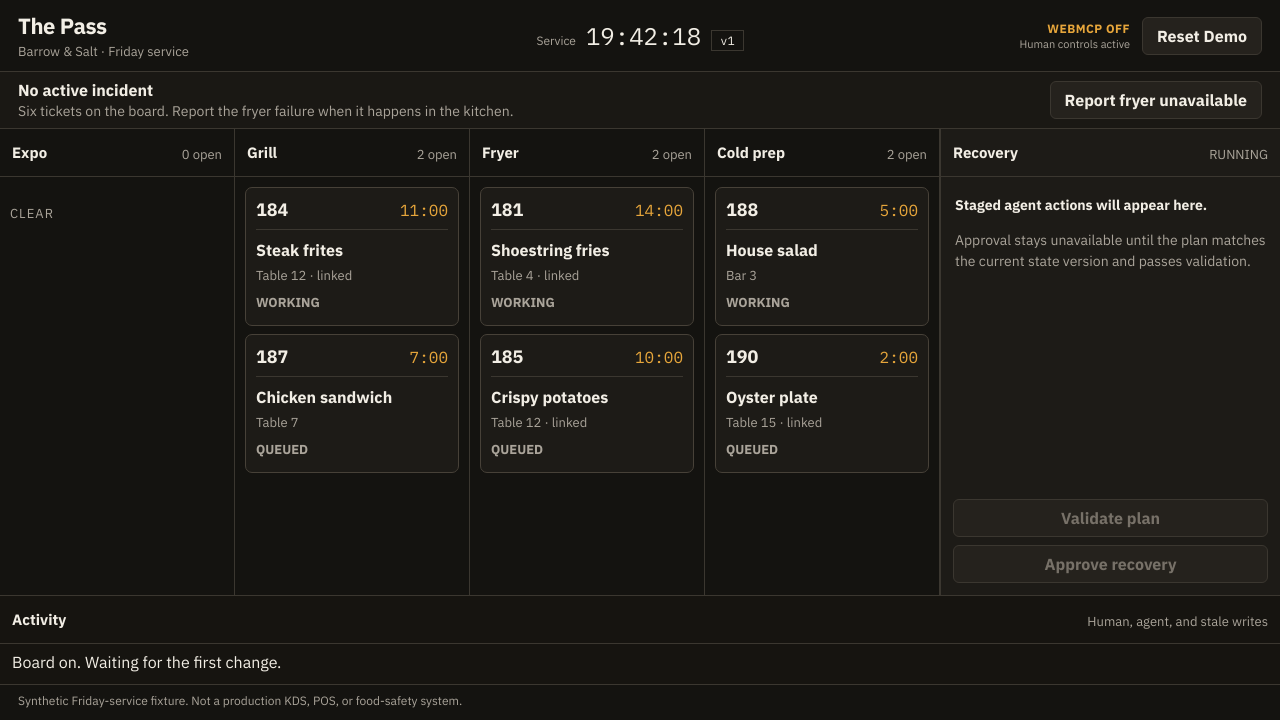
kitchen board › enables approval only after a valid current-version plan
Click the button "Report fryer unavailable": (1156, 100) [1050, 81, 1262, 119]
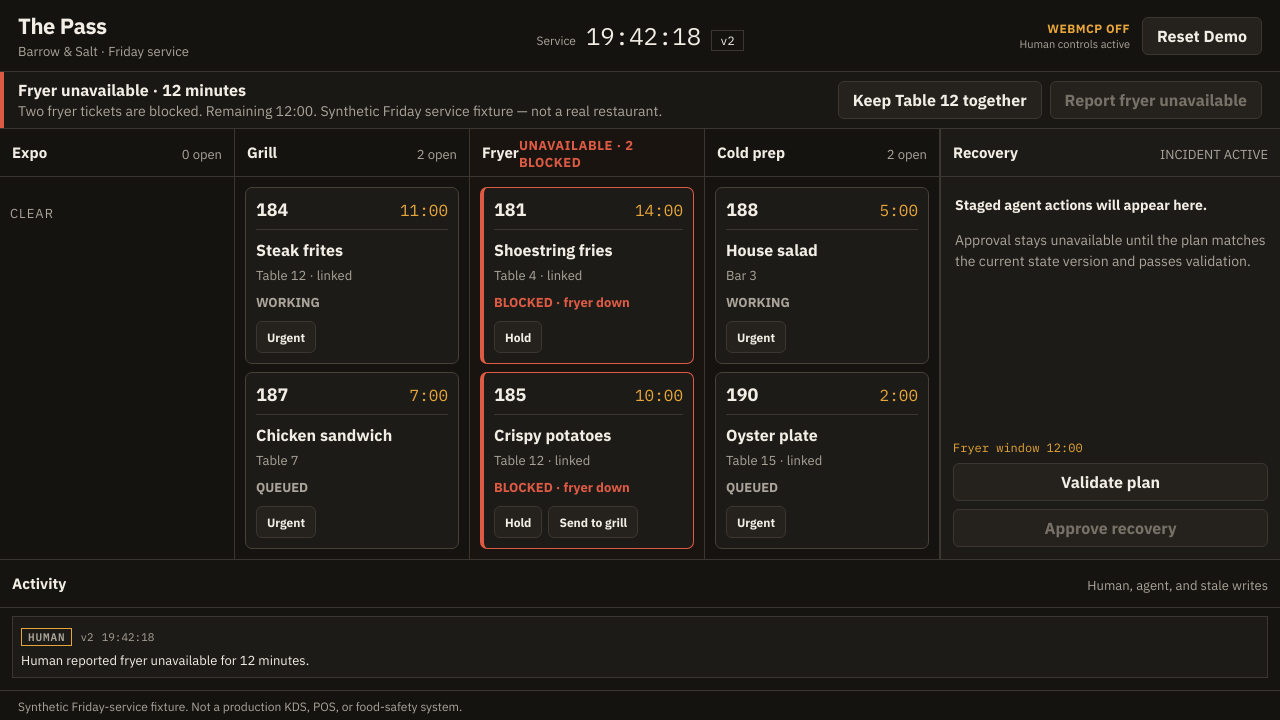
Expected: the text "Shoestring fries" is shown, [494, 240, 613, 260]
Expected: the text "Crispy potatoes" is shown, [494, 425, 611, 445]
Click the button "Hold" below "Table 4": (518, 337) [494, 321, 542, 353]
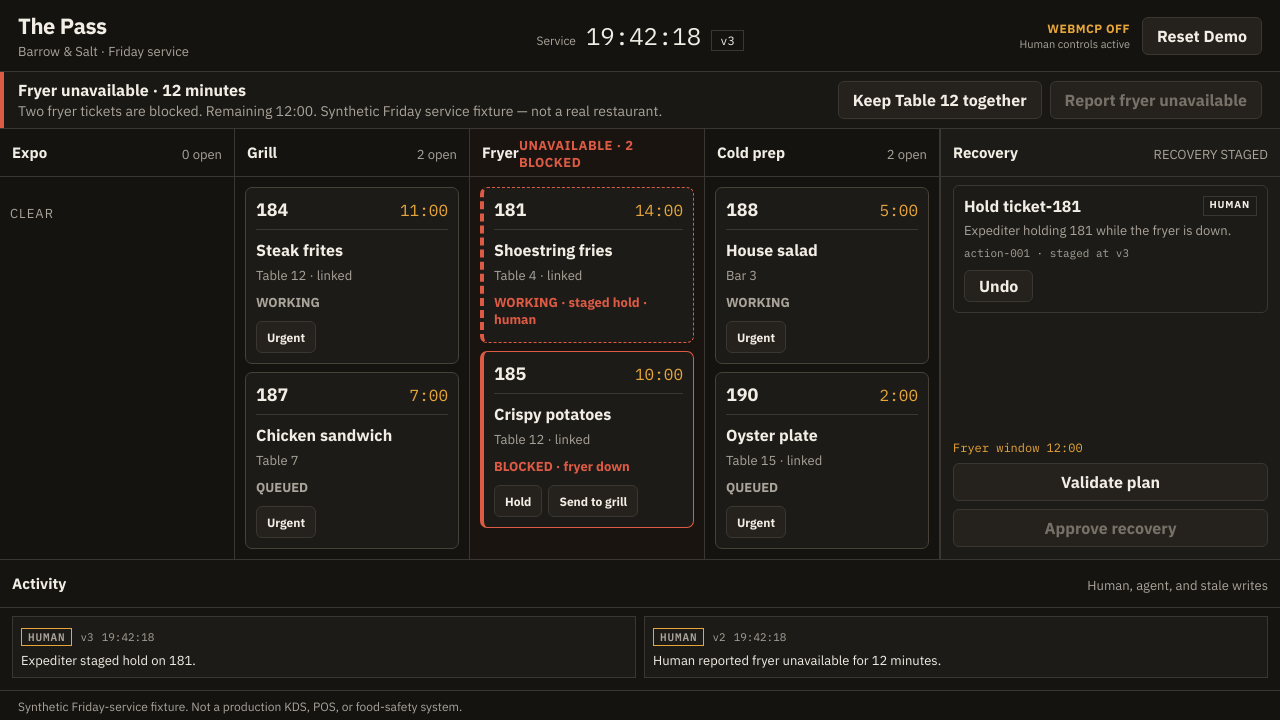
Click the button "Send to grill": (593, 501) [548, 485, 638, 517]
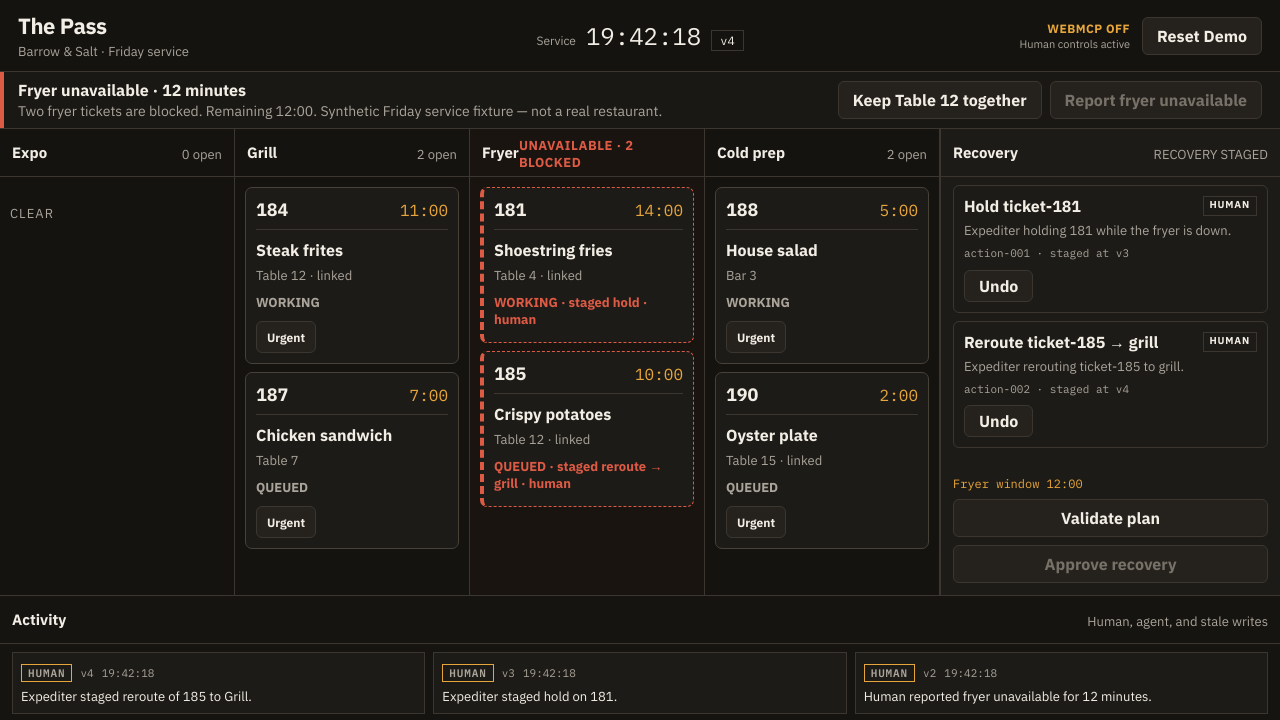
Expected: the button "Approve recovery" is disabled, [953, 545, 1268, 583]
Click the button "Validate plan": (1110, 518) [953, 499, 1268, 537]
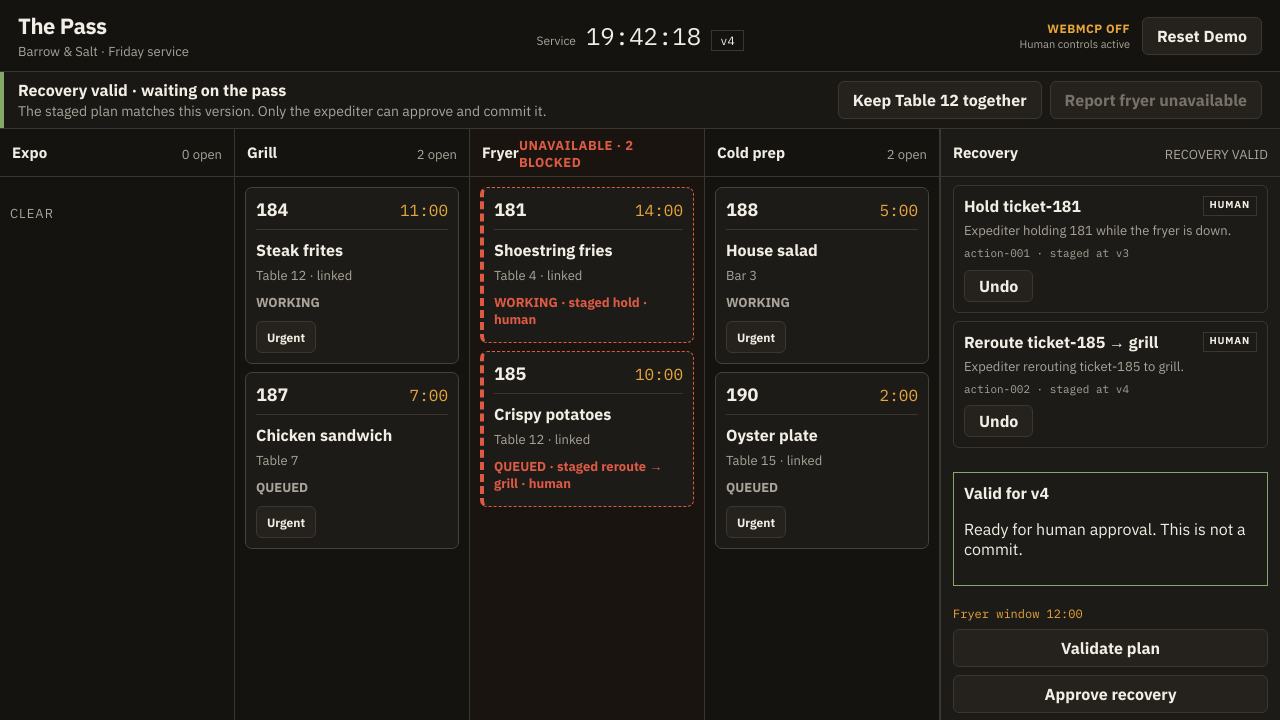
Click the button "Approve recovery": (1110, 694) [953, 675, 1268, 713]
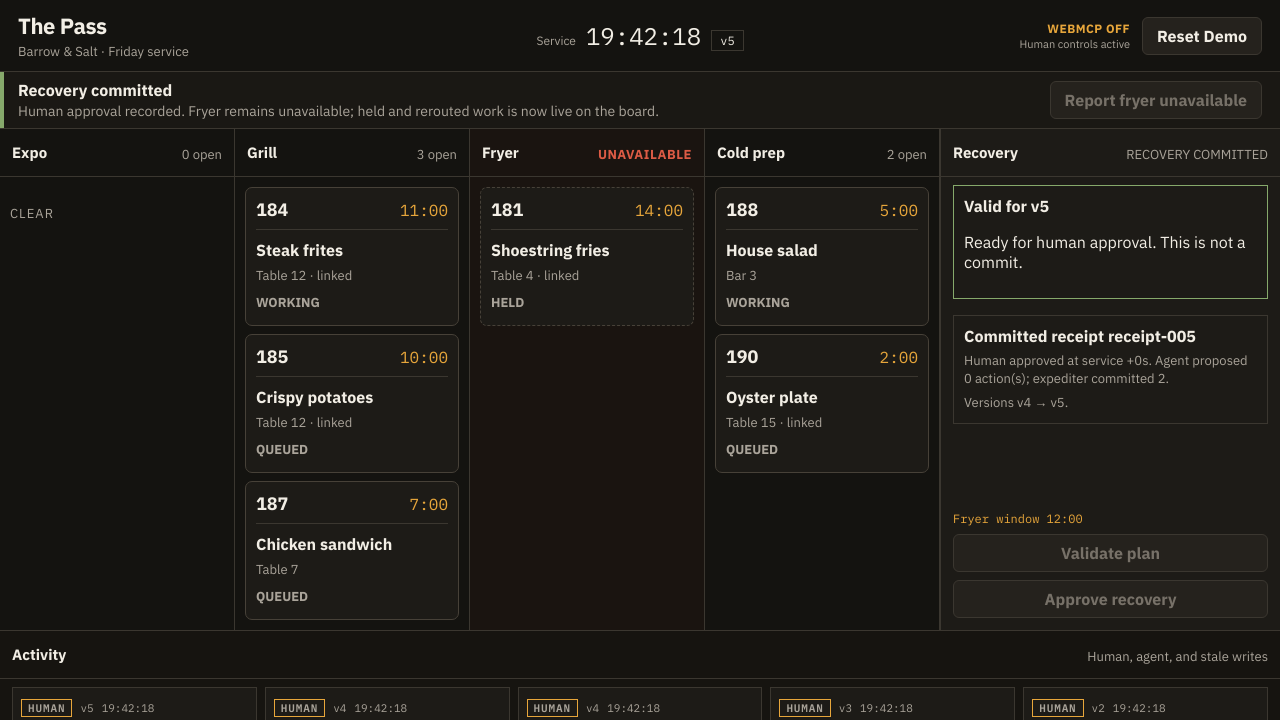
Expected: the text "Crispy potatoes" is shown, [256, 387, 373, 407]
Expected: the text "Committed receipt receipt-005" is shown, [964, 326, 1196, 346]
